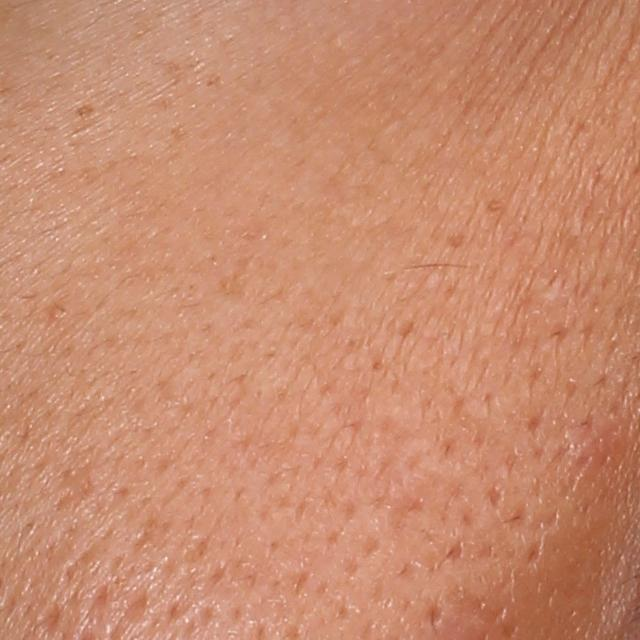atrophic_scar: (37, 600, 66, 637)
melasma: (72, 103, 97, 120)
